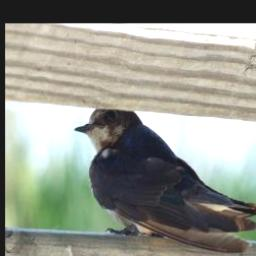Swallow: (74, 107, 256, 254)
